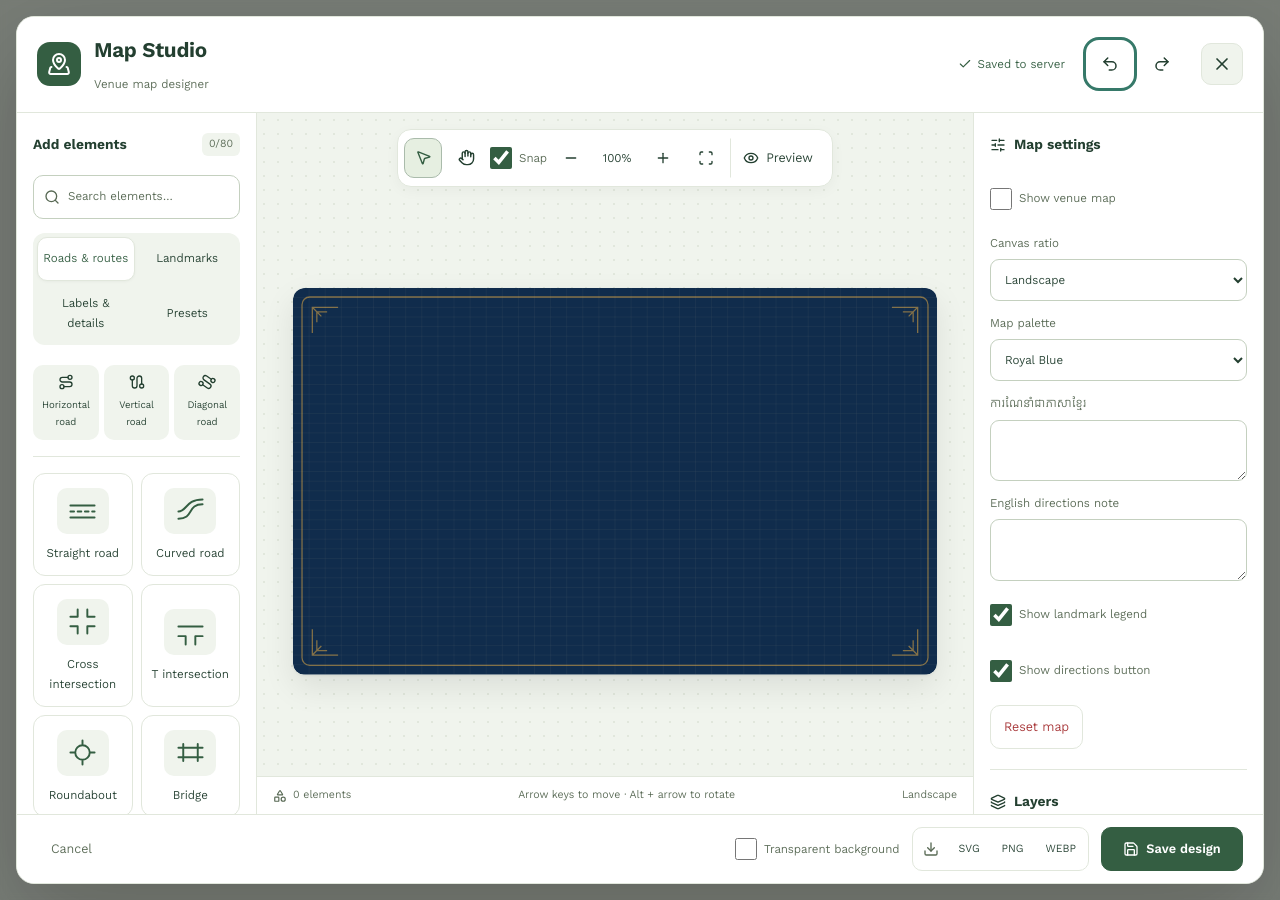
Test case: Studio map designer › does not report save success until persistence confirms it
Click the button "Straight road". click: (83, 525)
box: x1=33 y1=474 x2=132 y2=576
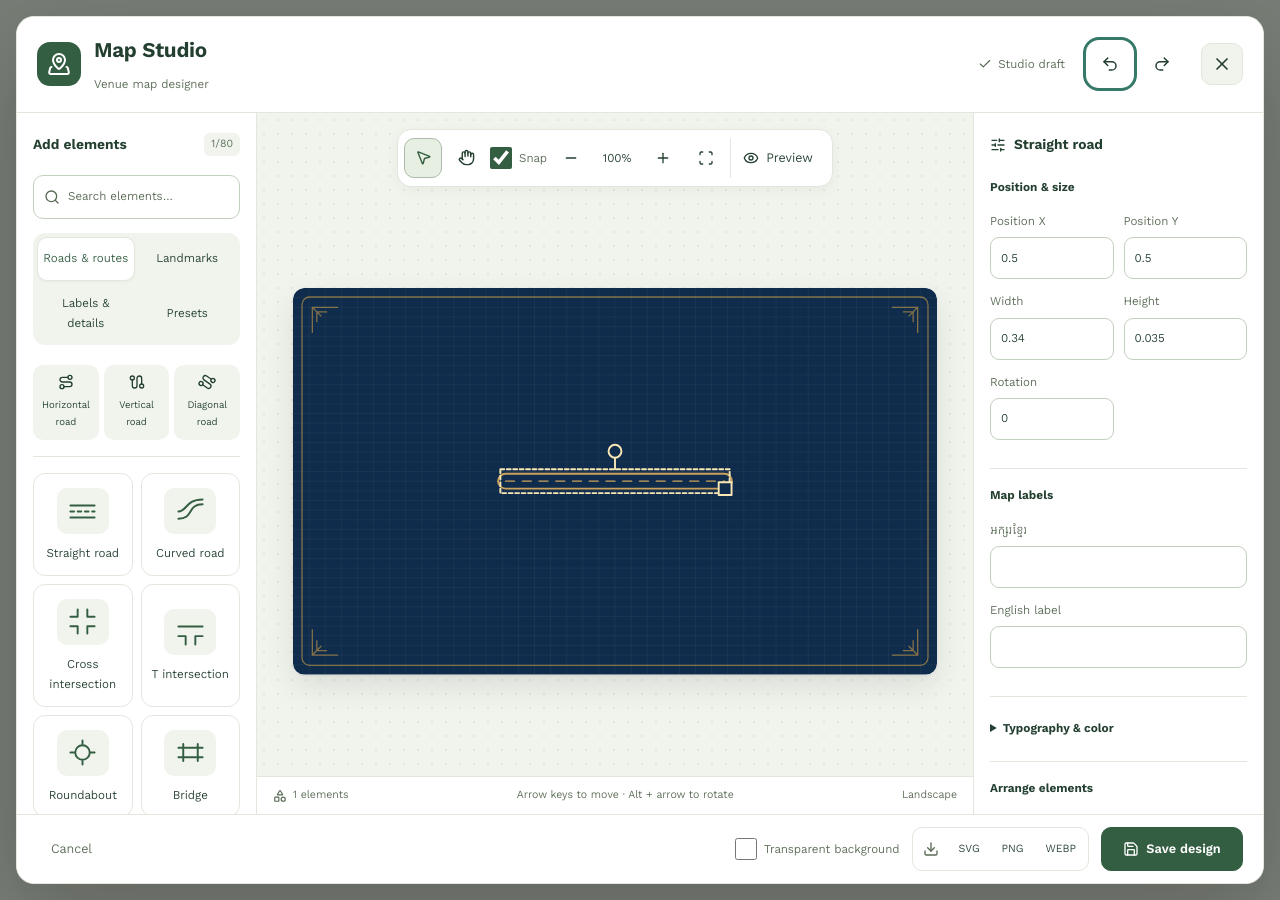
Click the button "Save design". click: (1172, 849)
box: x1=1101 y1=827 x2=1243 y2=871
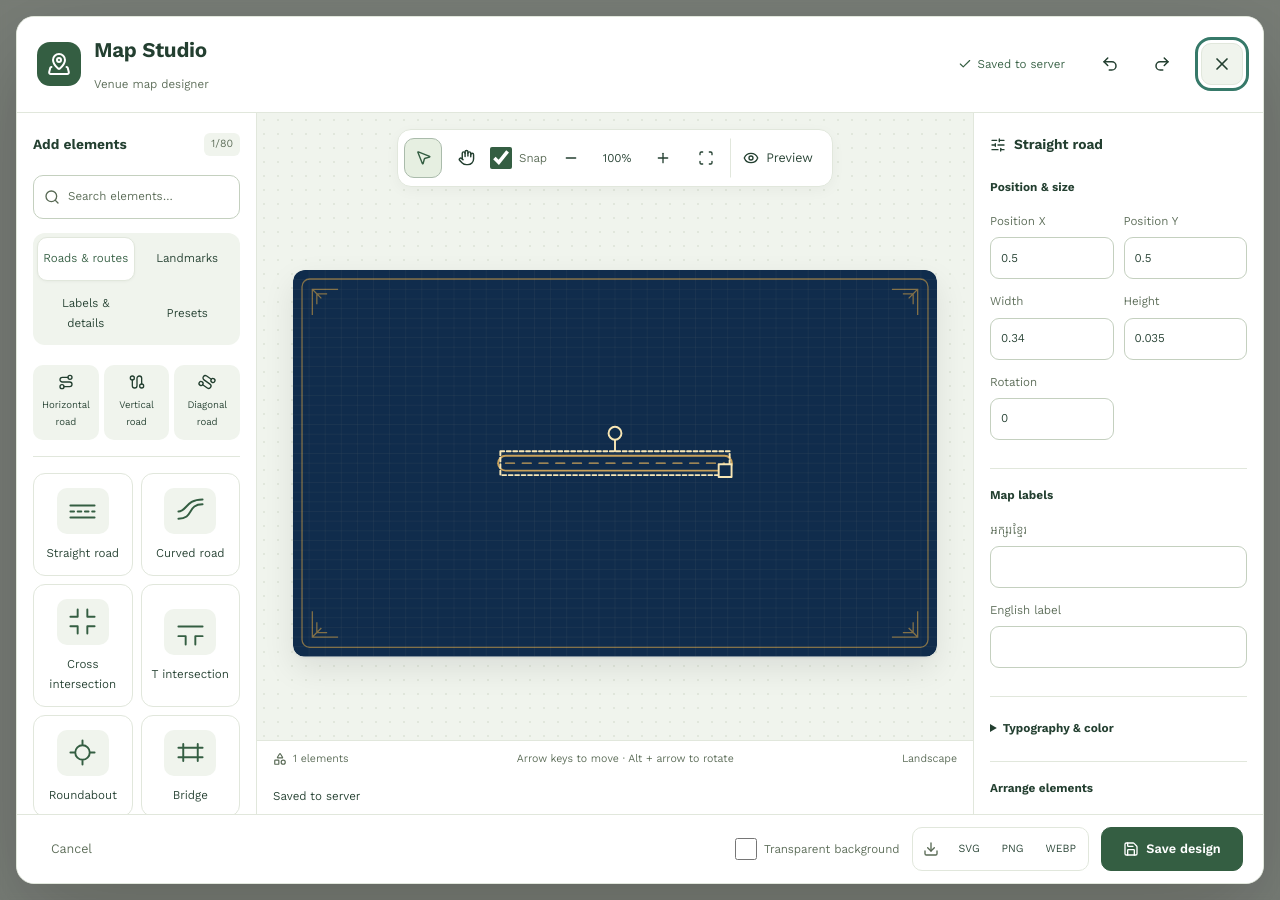
Check: the text "Saved to server" in the row of "Map Studio" is shown, box x1=978 y1=57 x2=1065 y2=71
